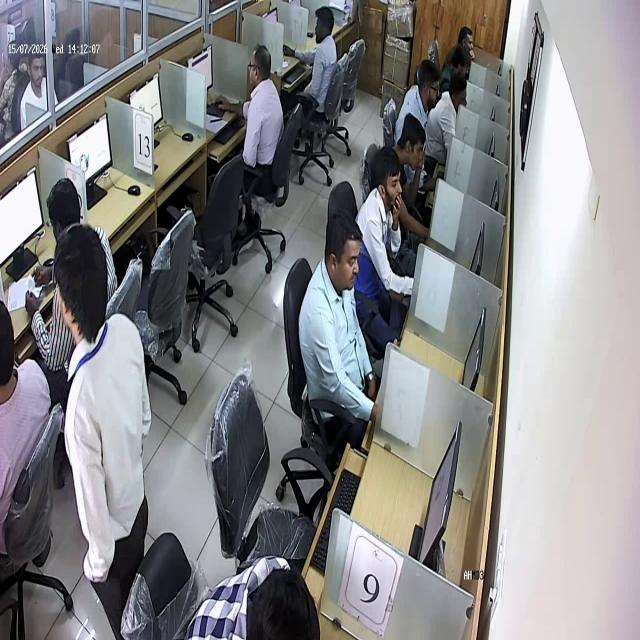paper-chit: (28, 272, 44, 298)
